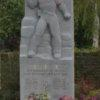Statue: (16, 0, 78, 72)
